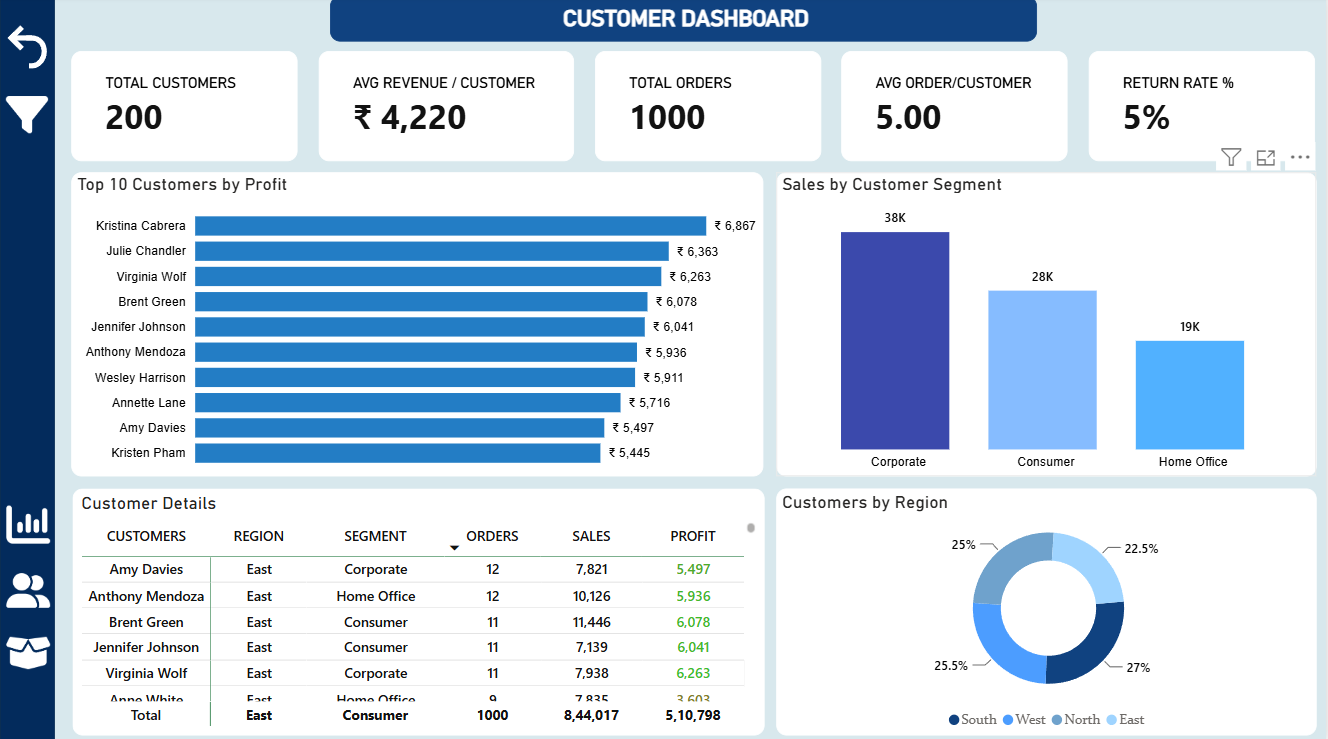

What the dashboard file says about the page in this screenshot:
{"tool":"powerbi","page":{"name":"Customers Dashboard","canvas":[1280,720],"ordinal":1},"visuals":[{"type":"cardVisual","fields":{"Data":["Measures (2).Total Customer"]},"box":[69,52.5,218.4,106.2],"z":0},{"type":"cardVisual","fields":{"Data":["Measures (2).Avg Revenue Per Customer"]},"box":[307.8,52.5,246.1,106.2],"z":1000},{"type":"cardVisual","fields":{"Data":["Measures (2).Total Orders"]},"box":[574.5,52.5,218.4,106.2],"z":2000},{"type":"cardVisual","fields":{"Data":["Measures (2).Return Rate %"]},"box":[1051,52.5,218.4,106.2],"z":3000},{"type":"clusteredBarChart","title":"Top 10 Customers by Profit","fields":{"Category":["Customer_Dim.FullName"],"Y":["Measures (2).Total Profit"]},"box":[69.1,169.6,668.3,293.9],"z":4000},{"type":"clusteredColumnChart","title":"Sales by Customer Segment","fields":{"Category":["Customer_Dim.Segment"],"Y":["Measures (2).Total Sales"]},"box":[748.7,169.6,521.3,293.9],"z":5000},{"type":"pivotTable","title":"Customer Details","fields":{"Rows":["Customer_Dim.FullName"],"Values":["Min(Region_Dim.RegionName)","Min(Customer_Dim.Segment)","Measures (2).Total Orders","Measures (2).Total Sales","Measures (2).Total Profit"]},"box":[70.3,474.8,668.3,238.7],"z":6000},{"type":"donutChart","title":"Customers by Region","fields":{"Category":["Region_Dim.RegionName"],"Y":["Measures (2).Total Customer"]},"box":[748.7,474.8,521.3,238.7],"z":7000},{"type":"textbox","box":[318.5,0,682,44],"z":8000},{"type":"shape","box":[0,0,53.1,720.2],"z":9000},{"type":"cardVisual","fields":{"Data":["Measures (2).Avg Orders Per Customer"]},"box":[812.1,52.5,218.4,106.2],"z":10000},{"type":"image","box":[6,615.3,42.2,37.4],"z":11000},{"type":"image","box":[4.8,96.5,42.2,36.2],"z":12000},{"type":"image","box":[6,548.9,42.2,49.5],"z":13000},{"type":"image","box":[6,486.2,42.2,48.3],"z":14000},{"type":"actionButton","box":[0,22.9,53.1,51.9],"z":15000}]}

Visuals, with their boxes on the page's 1280x720 design canvas (x1, y1, x2, y2). These are canvas units, not pixel positions in the 1328x739 screenshot, which may show the page scaled, cropped or inside an application window:
cardVisual - Measures (2).Total Customer: locate(69, 52, 287, 159)
cardVisual - Measures (2).Avg Revenue Per Customer: locate(308, 52, 554, 159)
cardVisual - Measures (2).Total Orders: locate(574, 52, 793, 159)
cardVisual - Measures (2).Return Rate %: locate(1051, 52, 1269, 159)
"Top 10 Customers by Profit" clusteredBarChart: locate(69, 170, 737, 464)
"Sales by Customer Segment" clusteredColumnChart: locate(749, 170, 1270, 464)
"Customer Details" pivotTable: locate(70, 475, 739, 714)
"Customers by Region" donutChart: locate(749, 475, 1270, 714)
textbox: locate(318, 0, 1000, 44)
shape: locate(0, 0, 53, 720)
cardVisual - Measures (2).Avg Orders Per Customer: locate(812, 52, 1030, 159)
image: locate(6, 615, 48, 653)
image: locate(5, 96, 47, 133)
image: locate(6, 549, 48, 598)
image: locate(6, 486, 48, 534)
actionButton: locate(0, 23, 53, 75)
